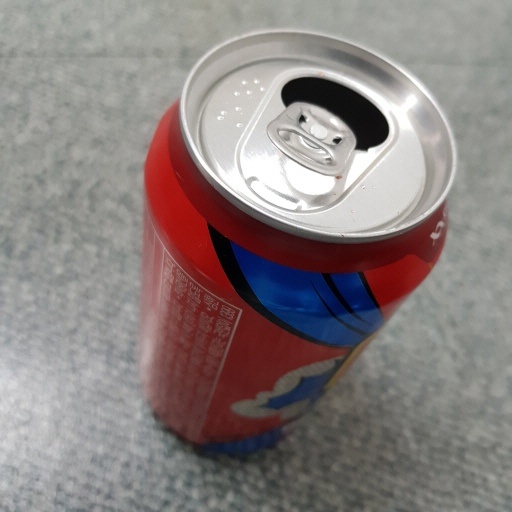Metal_0: (130, 31, 456, 459)
